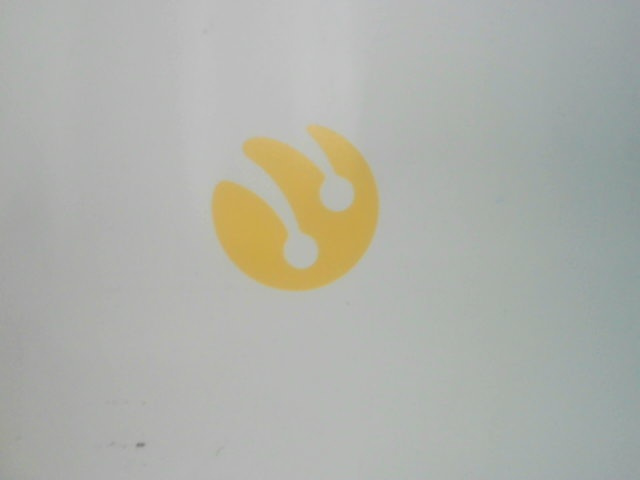AV_H3600Yellow: (199, 117, 394, 296)
